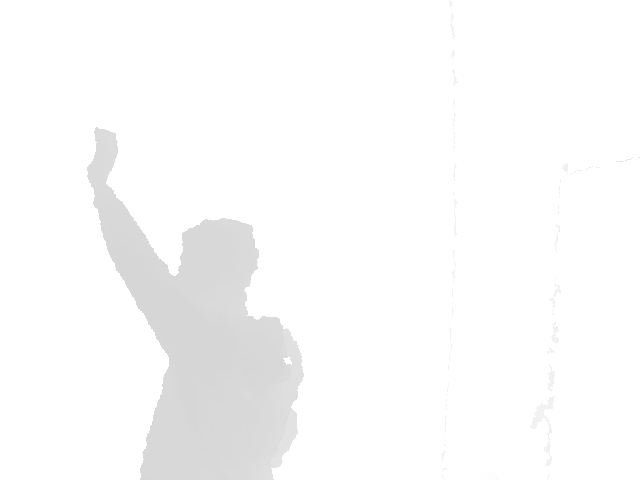hand: (85, 127, 120, 180)
head: (171, 216, 259, 320)
person: (85, 127, 304, 480)
